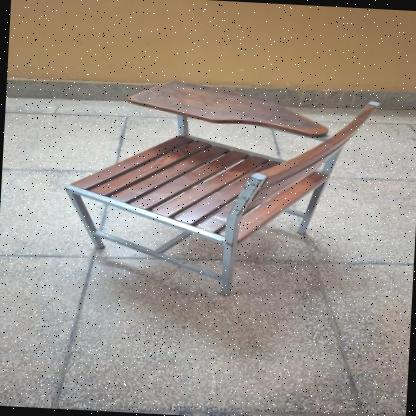chair: (53, 64, 388, 304)
